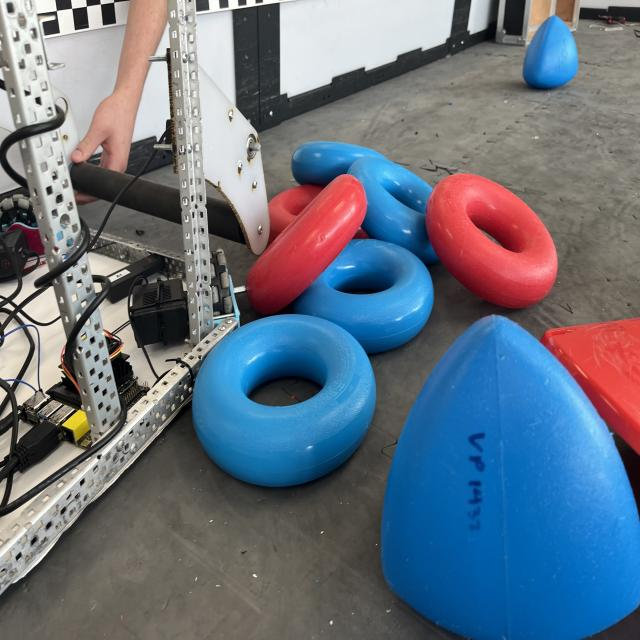Blue-Ring: (192, 315, 376, 487), (290, 142, 438, 265), (294, 238, 434, 353), (348, 157, 439, 263)
Red-Ring: (425, 173, 558, 308), (246, 173, 366, 315), (269, 187, 321, 240)
